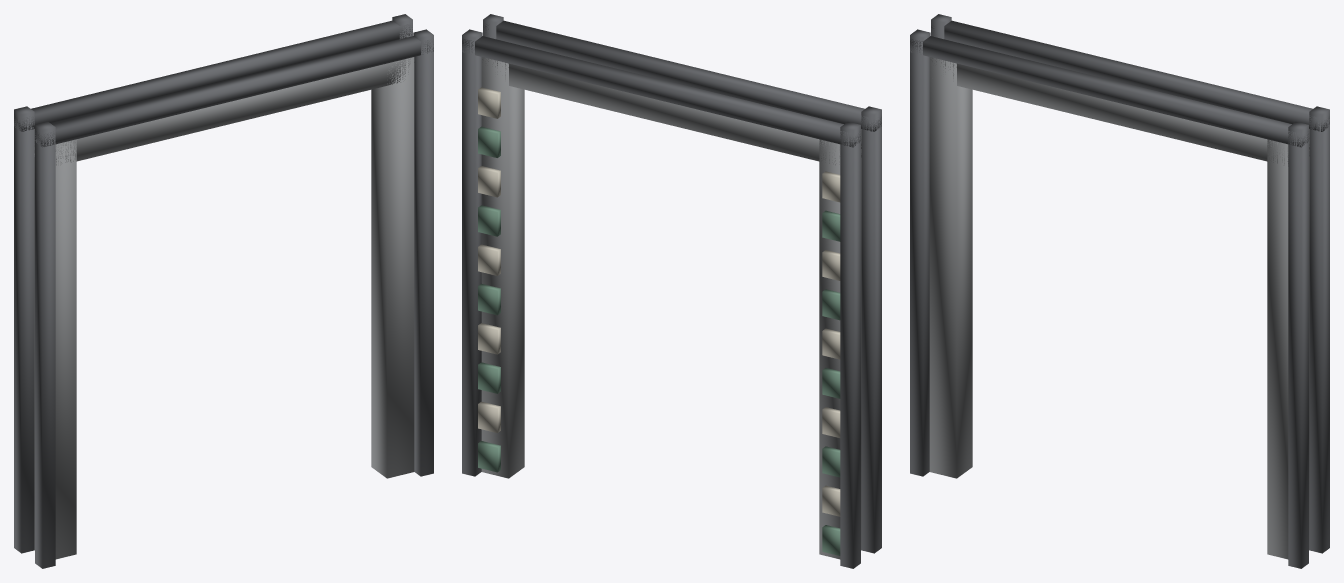
File: doorway_tile_return_w182_h220_d16.glb
The picture shows the model from 3 angles, left to right: view 1: azimuth 30°, elevation 25°; view 2: azimuth 150°, elevation 25°; view 3: azimuth 330°, elevation 25°; orthographic projection.
Parts seen in each view (by area): view 1: world; view 2: world; view 3: world.
Part boxes in pixels (<box>): world: <box>14,14,433,568</box>; world: <box>462,14,881,568</box>; world: <box>910,14,1329,568</box>.
Size of the model in its own units: 2.29 by 2.46 by 0.2906.
